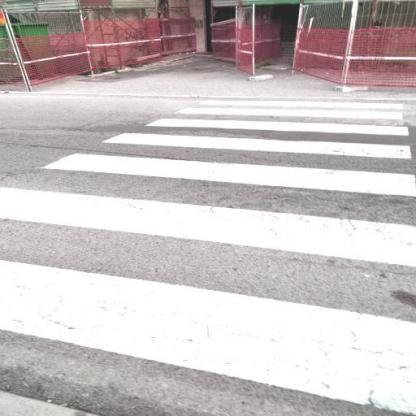crosswalk: (0, 183, 414, 415), (95, 117, 413, 163)
